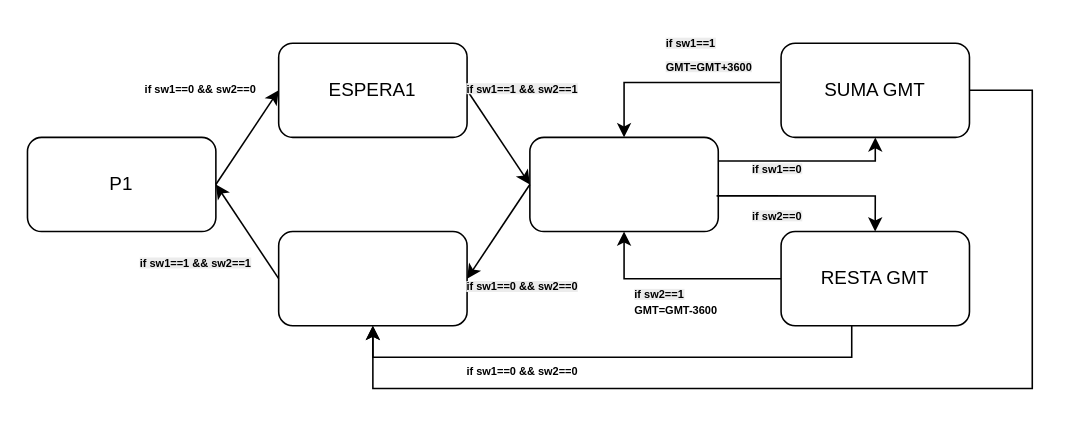
Image size: 1072x446. Some labels were removed from this diagram. The centre of each missing label's shape, as x and y in pixels:
"ESPERA2" goes at (x=372, y=278).
"P2" goes at (x=623, y=184).
